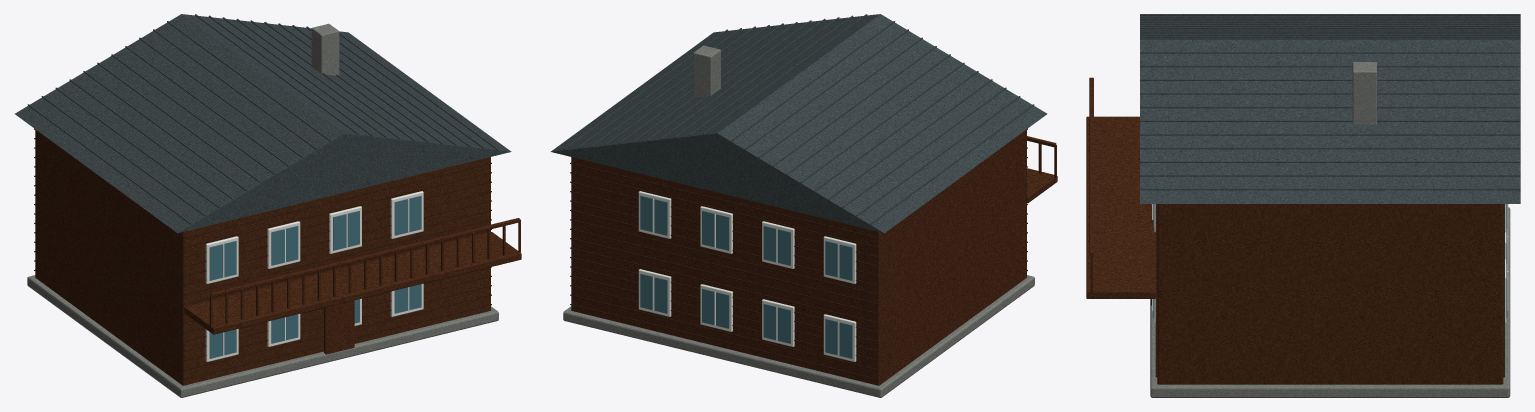
File: House_Chalet_LOD0.glb
3 views of the same model, side by side, from view 1: azimuth 30°, elevation 25°; view 2: azimuth 150°, elevation 25°; view 3: azimuth 270°, elevation 25° (orthographic). The views are drawn at different scales.
Parts seen in each view (by area): view 1: House_Chalet_export; view 2: House_Chalet_export; view 3: House_Chalet_export.
Part boxes in pixels (box(x1,y1,x2,y2)): House_Chalet_export: box(15, 14, 521, 397); House_Chalet_export: box(551, 14, 1057, 397); House_Chalet_export: box(1086, 14, 1520, 397).
Size of the model in its own units: 13 by 9.1 by 12.55.
Materials: 6 (4 with a texture image).
